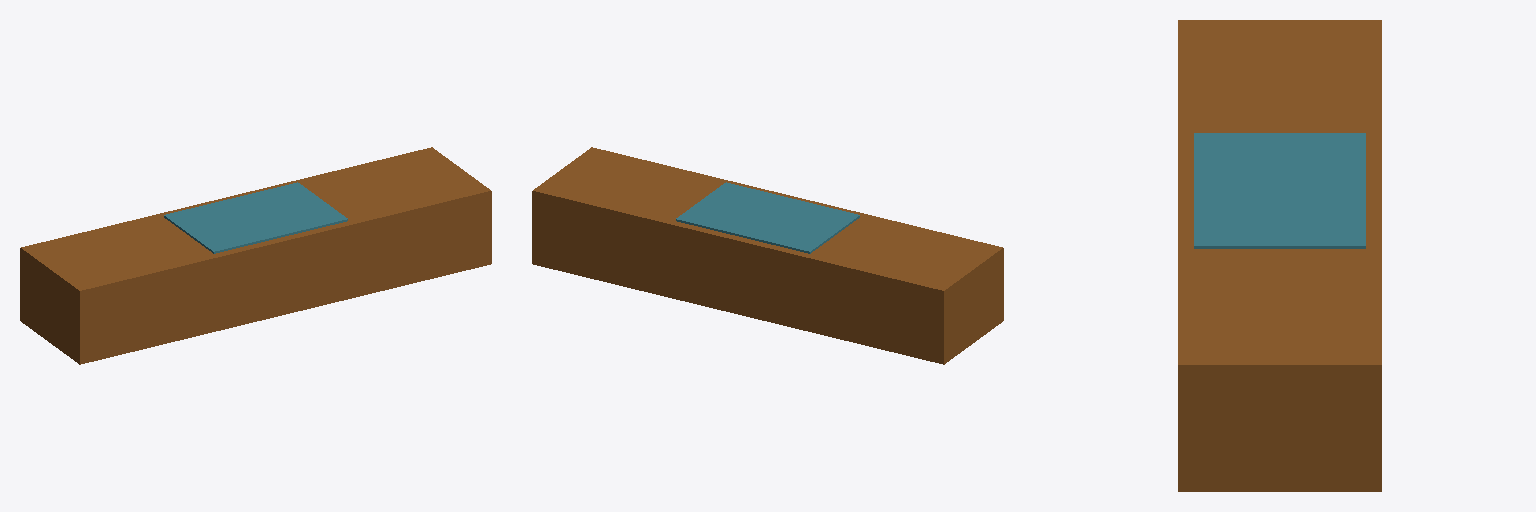
robot.urdf — jenga:
<?xml version="1.0"?>
<robot name="jenga">

  <link name="jenga_link">
    
    <inertial>
      <mass value="0.0073"/>
      <origin xyz="0 0 0" rpy="0 0 0"/>
      <inertia ixx="7.604166666666669e-07" ixy="0" ixz="0" 
               iyy="7.604166666666669e-07" iyz="0" 
               izz="7.604166666666669e-07"/>
    </inertial>

    <collision>
      <origin xyz="0 0 0.00445" rpy="0 0 0"/>
      <geometry>
        <box size="0.052 0.013 0.0089"/>
      </geometry>
    </collision>

    <visual>
      <origin xyz="0 0 0.00445" rpy="0 0 0"/>
      <geometry>
        <box size="0.052 0.013 0.0089"/>
      </geometry>
      <material name="wood_color">
        <color rgba="0.6 0.4 0.2 1"/>
      </material>
    </visual>

    <visual>
      <origin xyz="0 0 0.0089" rpy="0 0 0"/>
      <geometry>
        <box size="0.017 0.011 0.0005"/>
      </geometry>
      <material name="label_blue">
        <color rgba="0.30 0.55 0.60 1"/>
      </material>
    </visual>

  </link>

  <gazebo>
    <plugin filename="ignition-gazebo-pose-publisher-system"
            name="ignition::gazebo::systems::PosePublisher">
      <publish_link_pose>true</publish_link_pose>
      <publish_visual_pose>false</publish_visual_pose>
      <publish_nested_model_pose>true</publish_nested_model_pose>
      <use_pose_vector_msg>true</use_pose_vector_msg>
      <update_frequency>100</update_frequency>
    </plugin>
  </gazebo>

</robot>

--- Facts derived from the render (not from the file) ---
Views: 3 orthographic renders of the robot side by side, from view 1: azimuth 30°, elevation 25°; view 2: azimuth 150°, elevation 25°; view 3: azimuth 270°, elevation 25°.
Robot: jenga — 1 links, 0 joints (none); root link jenga_link; default pose: all joints at 0.
Links seen in each view (by area): view 1: jenga_link; view 2: jenga_link; view 3: jenga_link.
Link boxes in pixels (bbox=[...]): jenga_link: bbox=[20, 147, 491, 364]; jenga_link: bbox=[532, 147, 1003, 364]; jenga_link: bbox=[1178, 20, 1381, 491].
Size in the robot's own frame: 0.052 by 0.013 by 0.0092 metres.
Geometry: primitives only (box / cylinder / sphere), no mesh files.
